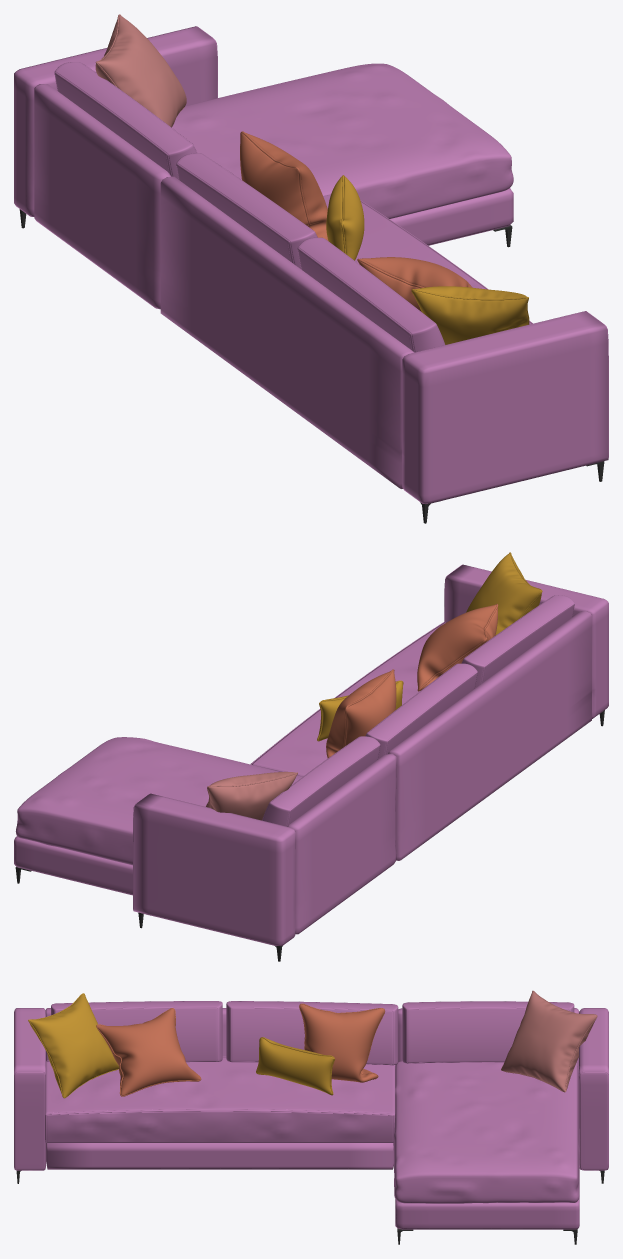
File: sofaa.glb
The picture shows the model from 3 angles, top to bottom: view 1: azimuth 30°, elevation 25°; view 2: azimuth 150°, elevation 25°; view 3: azimuth 270°, elevation 25°; orthographic projection. The views are drawn at different scales.
Visible parts, largest first — view 1: Box006; view 2: Box006; view 3: Box006.
Part boxes in pixels (<box>): Box006: <box>14,14,608,523</box>; Box006: <box>14,552,608,961</box>; Box006: <box>14,990,608,1244</box>.
Bounding box in the file's own units: 2.01 × 1.05 × 3.99.
